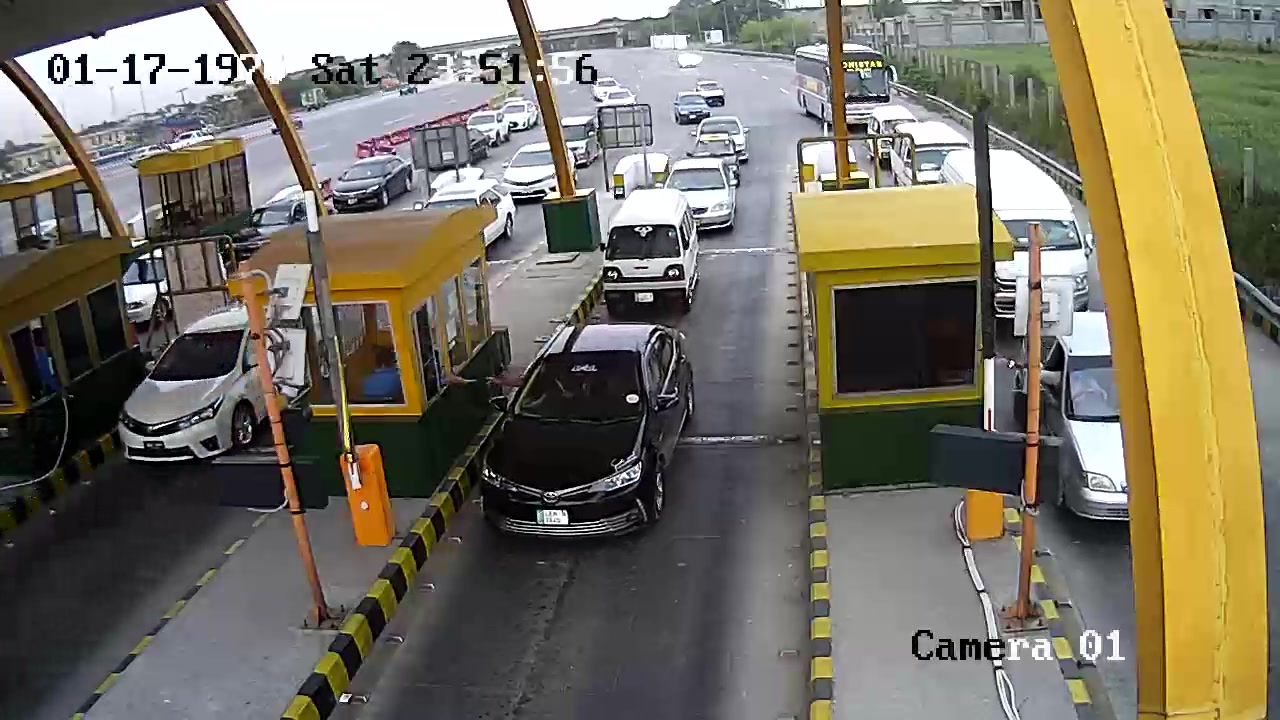F1: (472, 319, 718, 557)
